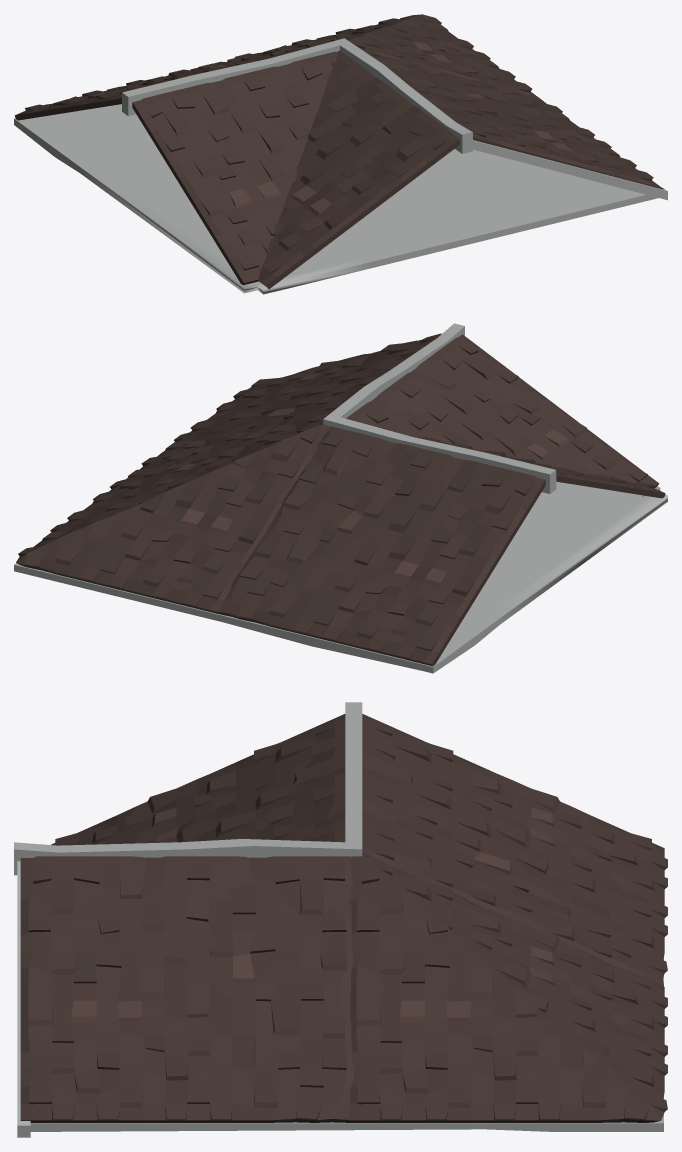
Rendered from SM_Bld_Mansion_Roof_Corner_01.glb.
The picture shows the model from 3 angles, top to bottom: view 1: azimuth 30°, elevation 25°; view 2: azimuth 150°, elevation 25°; view 3: azimuth 270°, elevation 25°; orthographic projection. The views are drawn at different scales.
Visible parts, largest first — view 1: SM_Bld_Mansion_Roof_Corner_01; view 2: SM_Bld_Mansion_Roof_Corner_01; view 3: SM_Bld_Mansion_Roof_Corner_01.
Part boxes in pixels (x1=…): SM_Bld_Mansion_Roof_Corner_01: x1=14, y1=14, x2=667, y2=294; SM_Bld_Mansion_Roof_Corner_01: x1=14, y1=323, x2=667, y2=673; SM_Bld_Mansion_Roof_Corner_01: x1=14, y1=702, x2=667, y2=1137.
Bounding box in the file's own units: 0.1198 × 0.0327 × 0.1195.
